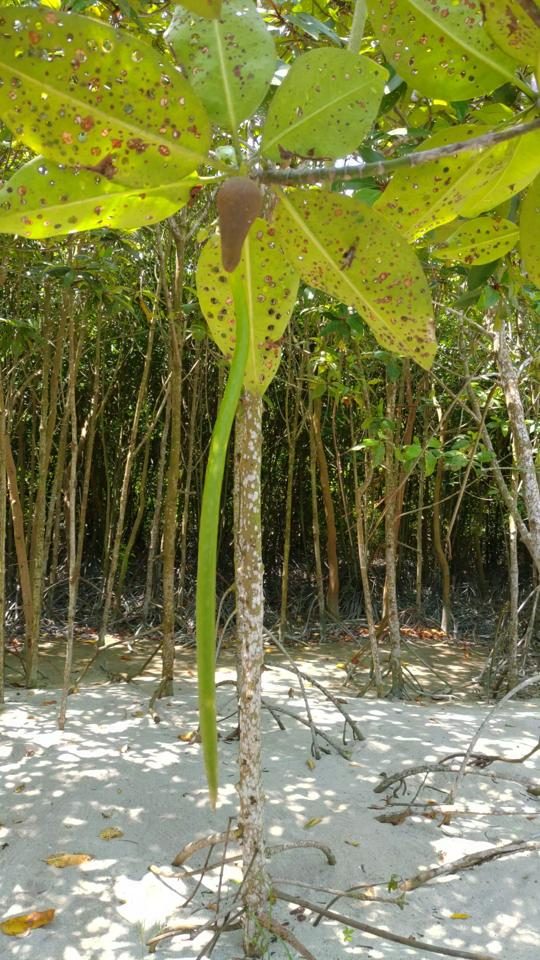mentah: (179, 156, 279, 826)
